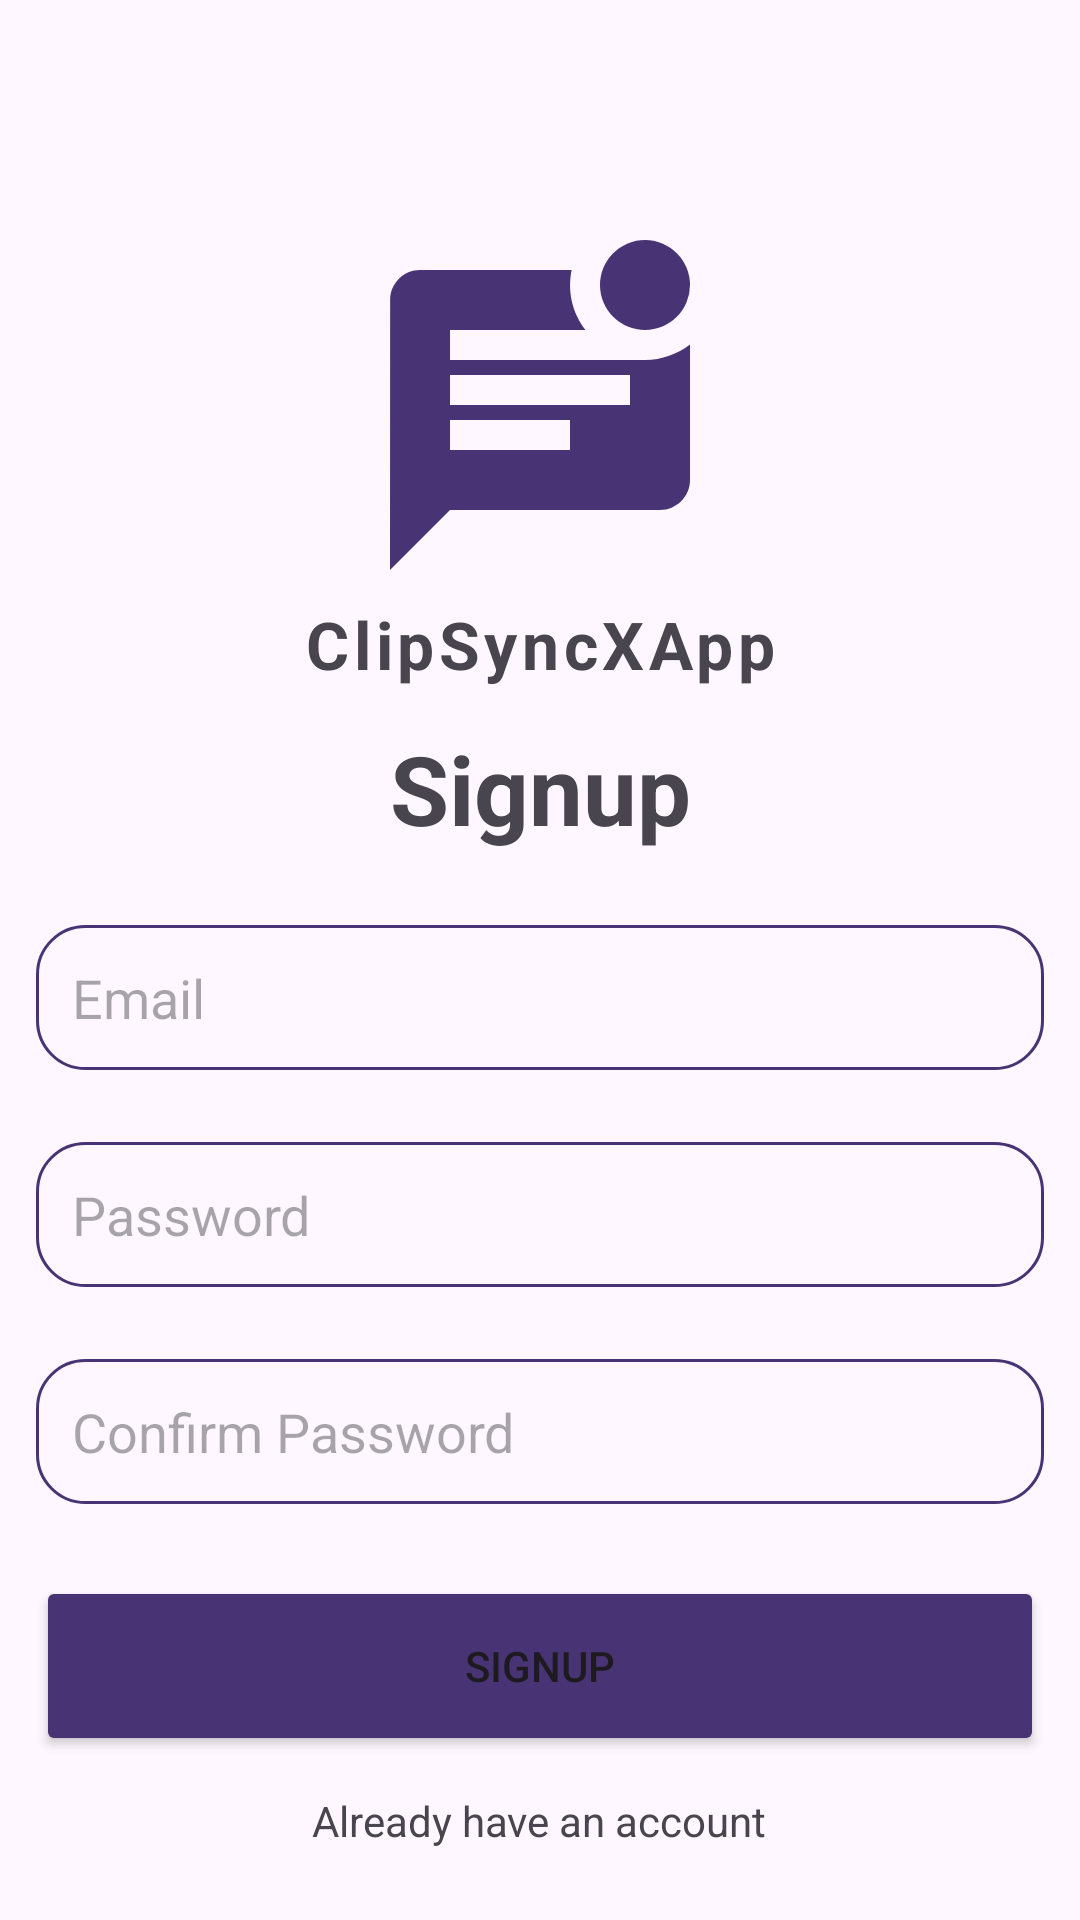

Where icons sit on this 1080*1920 app screen, as (x1,y1,x2,y2):
mark unread chat: (390,240,690,570)
